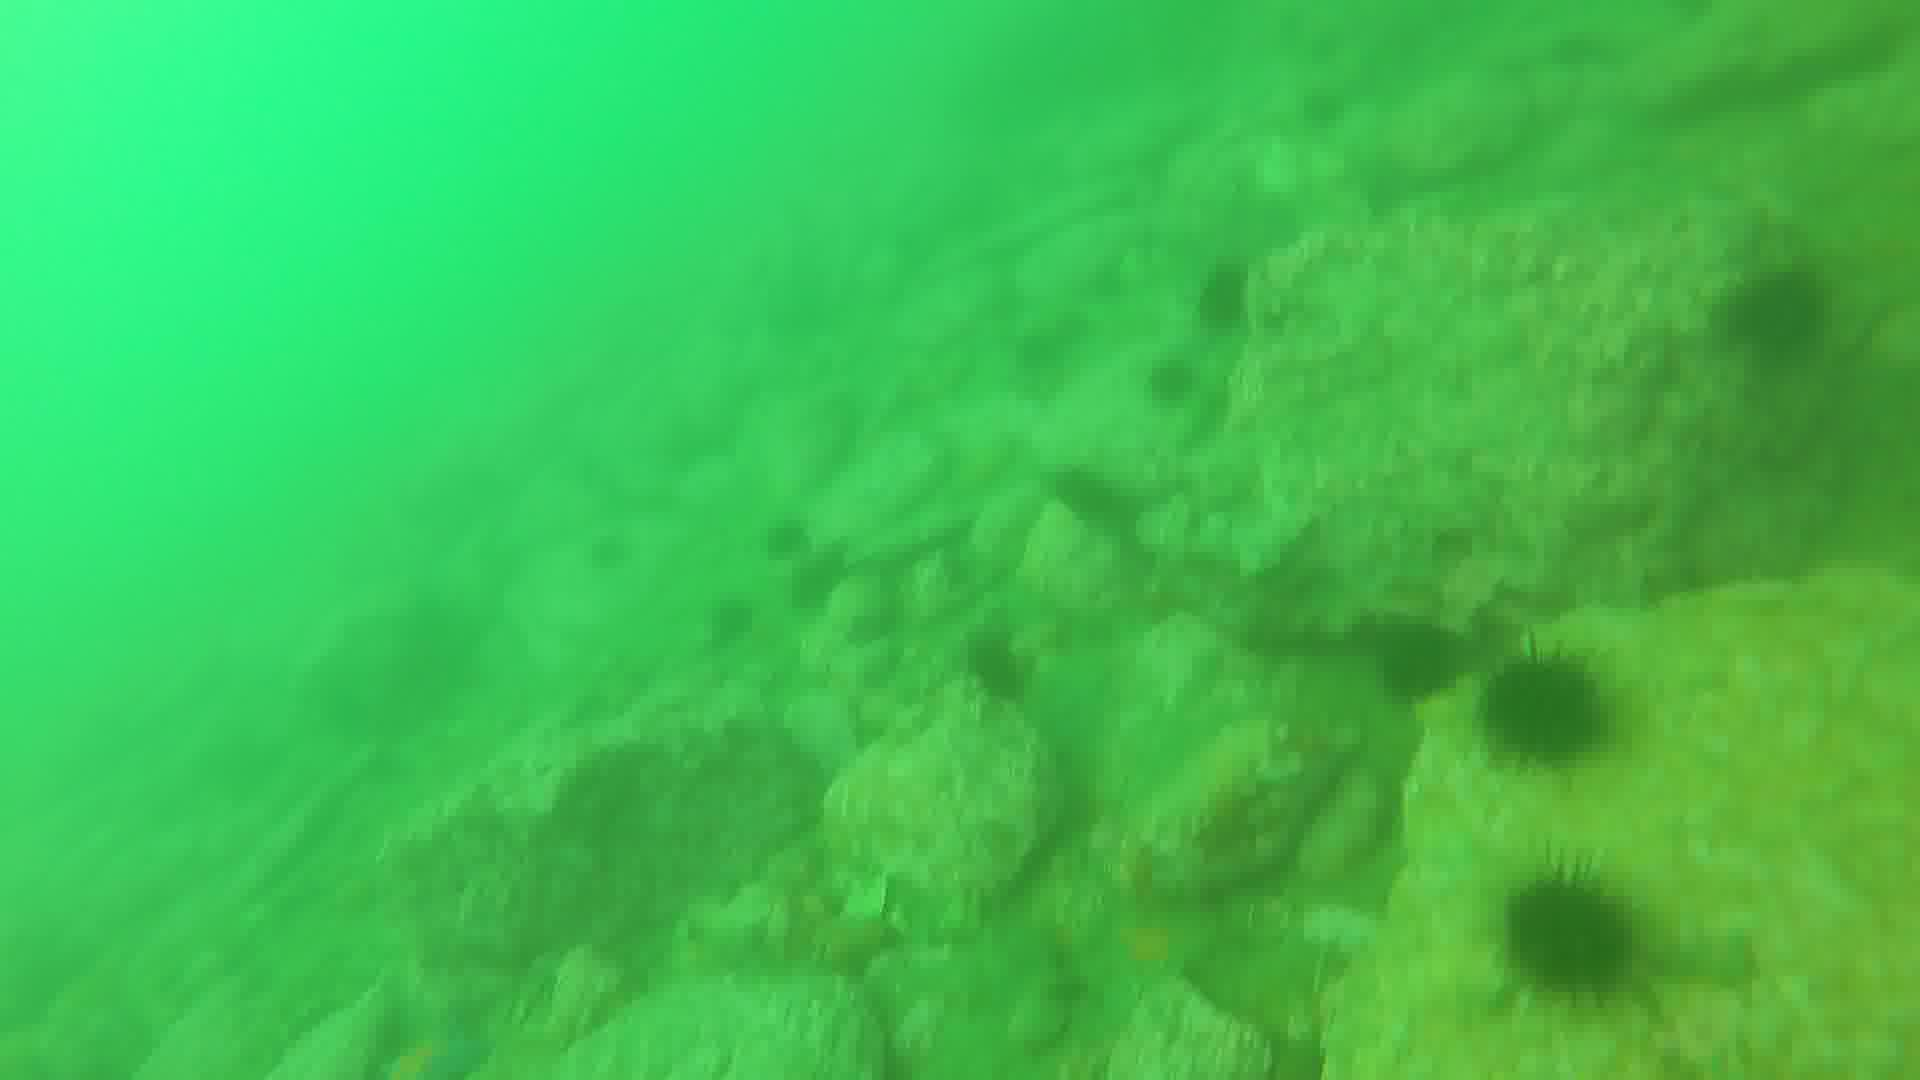echinus: (1491, 870, 1644, 1010), (1485, 645, 1607, 767), (1730, 278, 1836, 360), (1371, 613, 1469, 698), (964, 636, 1030, 705), (1208, 258, 1261, 334), (1139, 357, 1207, 407), (719, 593, 769, 651), (757, 512, 815, 560), (585, 527, 636, 578)
starfish: (1098, 916, 1236, 1002), (375, 1007, 500, 1080)
